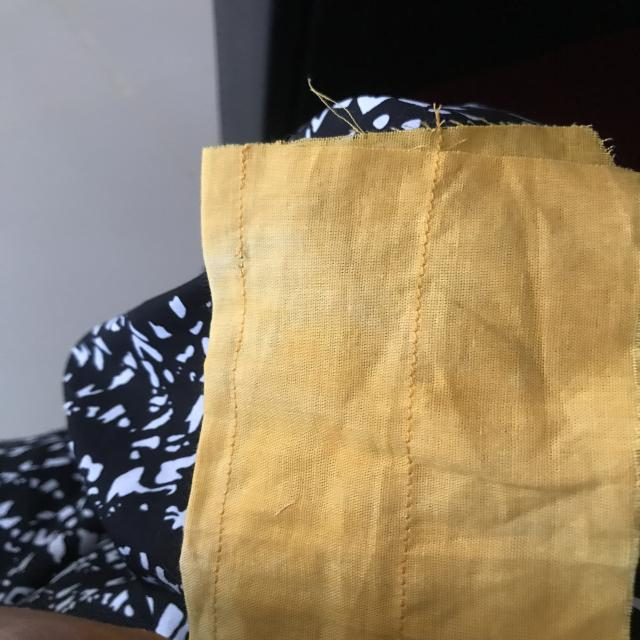broken: (222, 238, 266, 283)
